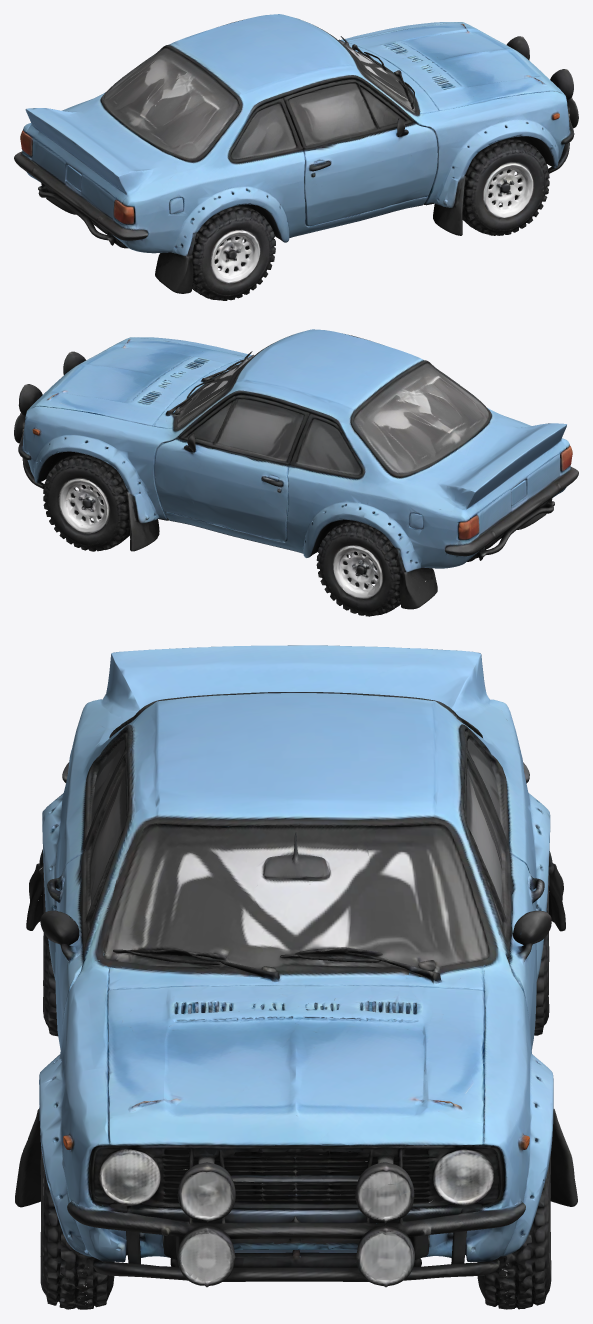
Rendered from kz_kestrel.glb.
3 views of the same model, one above another, from view 1: azimuth 30°, elevation 25°; view 2: azimuth 150°, elevation 25°; view 3: azimuth 270°, elevation 25° (orthographic). The views are drawn at different scales.
Visible parts, largest first — view 1: body, wheel_FR_part, wheel_RR_part; view 2: body, wheel_FL_part, wheel_RL_part; view 3: body, wheel_FR_part, wheel_FL_part, wheel_RR_part, wheel_RL_part.
Boxes of the visible parts, x1,y1,x2,y2 form: body: (14,14,578,293); wheel_FR_part: (462,136,549,235); wheel_RR_part: (192,204,275,300); body: (14,329,578,609); wheel_FL_part: (43,452,129,551); wheel_RL_part: (316,520,400,616); body: (15,645,577,1309); wheel_FR_part: (40,1149,114,1309); wheel_FL_part: (477,1154,551,1309); wheel_RR_part: (37,863,58,1036); wheel_RL_part: (534,866,555,1035).
Bounding box in the file's own units: 1.9 × 0.7146 × 0.9541.
Materials: 5 (5 with a texture image).
